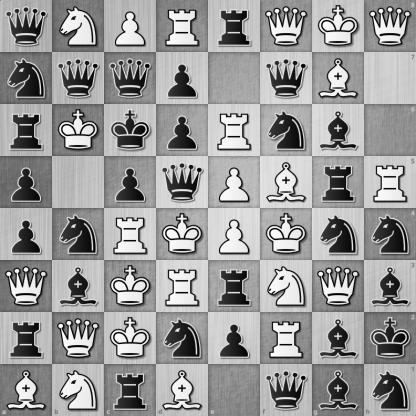B: (156, 364, 209, 416), (0, 364, 52, 416), (261, 157, 312, 208), (313, 53, 364, 104)
K: (53, 105, 104, 156), (105, 261, 156, 312), (105, 313, 156, 364), (157, 209, 208, 260), (261, 209, 312, 260), (313, 1, 364, 52)
N: (52, 364, 104, 416), (53, 1, 104, 52), (261, 261, 312, 312)
P: (105, 1, 156, 52), (209, 157, 260, 208), (209, 209, 260, 260)
Q: (364, 0, 416, 52), (1, 261, 52, 312), (53, 313, 104, 364), (261, 1, 312, 52), (313, 261, 364, 312)
R: (364, 156, 416, 209), (105, 209, 156, 260), (157, 1, 208, 52), (157, 261, 208, 312), (209, 105, 260, 156), (261, 313, 312, 364)
b: (312, 364, 364, 416), (364, 260, 416, 312), (53, 261, 104, 312), (313, 105, 364, 156), (313, 313, 364, 364)
board: (0, 0, 415, 415)
k: (364, 312, 416, 364), (105, 105, 156, 156)
n: (364, 364, 416, 416), (364, 209, 416, 260), (1, 53, 52, 104), (53, 209, 104, 260), (157, 313, 208, 364), (261, 105, 312, 156), (313, 209, 364, 260)
p: (1, 157, 52, 208), (1, 209, 52, 260), (105, 157, 156, 208), (157, 53, 208, 104), (157, 105, 208, 156), (209, 313, 260, 364)
q: (260, 364, 312, 416), (1, 1, 52, 52), (53, 53, 104, 104), (105, 53, 156, 104), (157, 157, 208, 208), (261, 53, 312, 104)
r: (104, 364, 156, 416), (1, 105, 52, 156), (1, 313, 52, 364), (209, 1, 260, 52), (209, 261, 260, 312), (313, 157, 364, 208)
